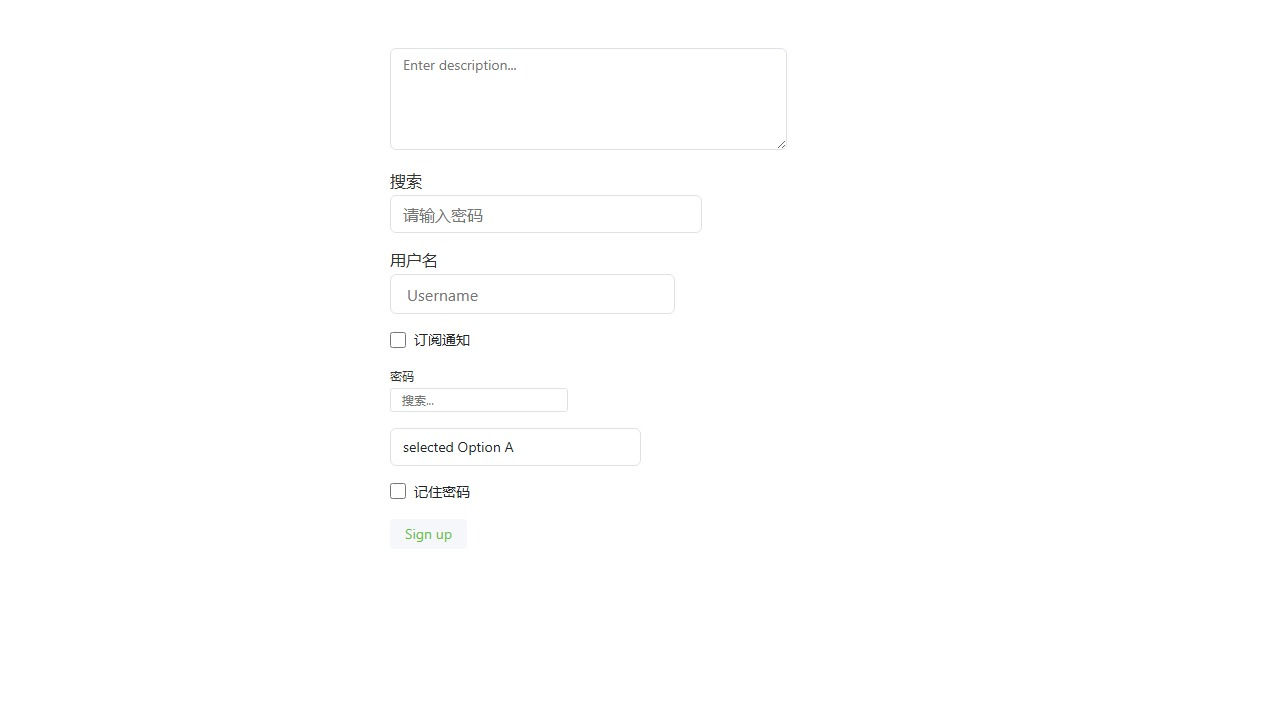button: (390, 519, 467, 549)
checkbox: (390, 332, 406, 348), (390, 483, 406, 499)
icon: (414, 330, 470, 349), (414, 481, 470, 500)
input: (390, 195, 702, 233), (390, 274, 675, 314), (390, 388, 568, 411)
radio: (390, 330, 470, 349), (390, 481, 470, 500)
select: (390, 428, 641, 466)
textarea: (390, 48, 787, 150)
